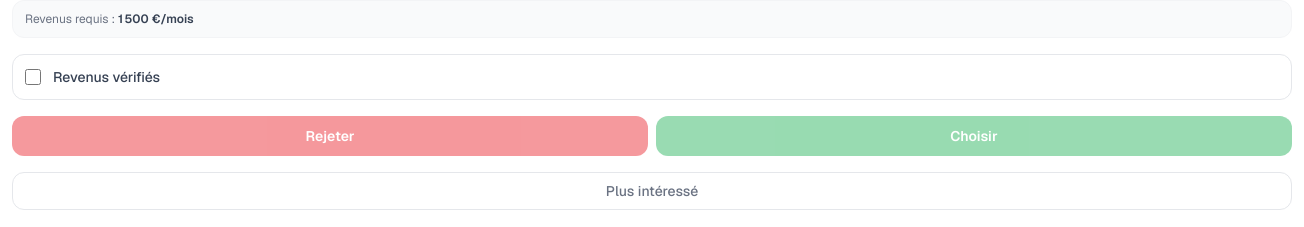
Test: CandidateActions — statut "pending" › active Rejeter/Choisir uniquement après avoir coché "Revenus vérifiés"
This screenshot has width=1304, height=227.
Check: the button "Choisir" is disabled, box [656, 116, 1292, 156]
Click the checkbox labelled "Revenus vérifiés": point(33, 77) [25, 69, 41, 85]
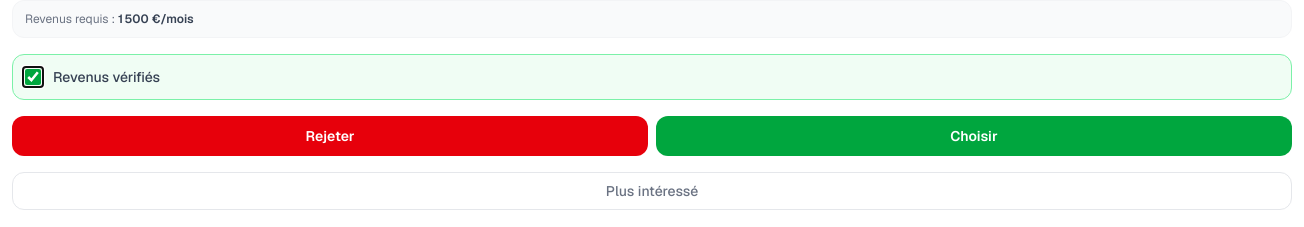
Check: the button "Choisir" is enabled, box [656, 116, 1292, 156]
